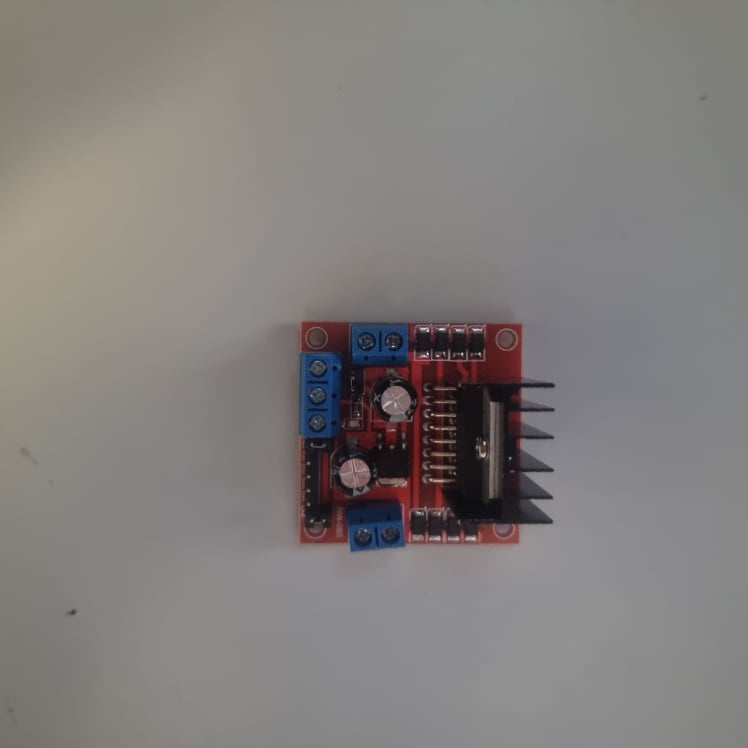MOTOR: (299, 319, 557, 555)
